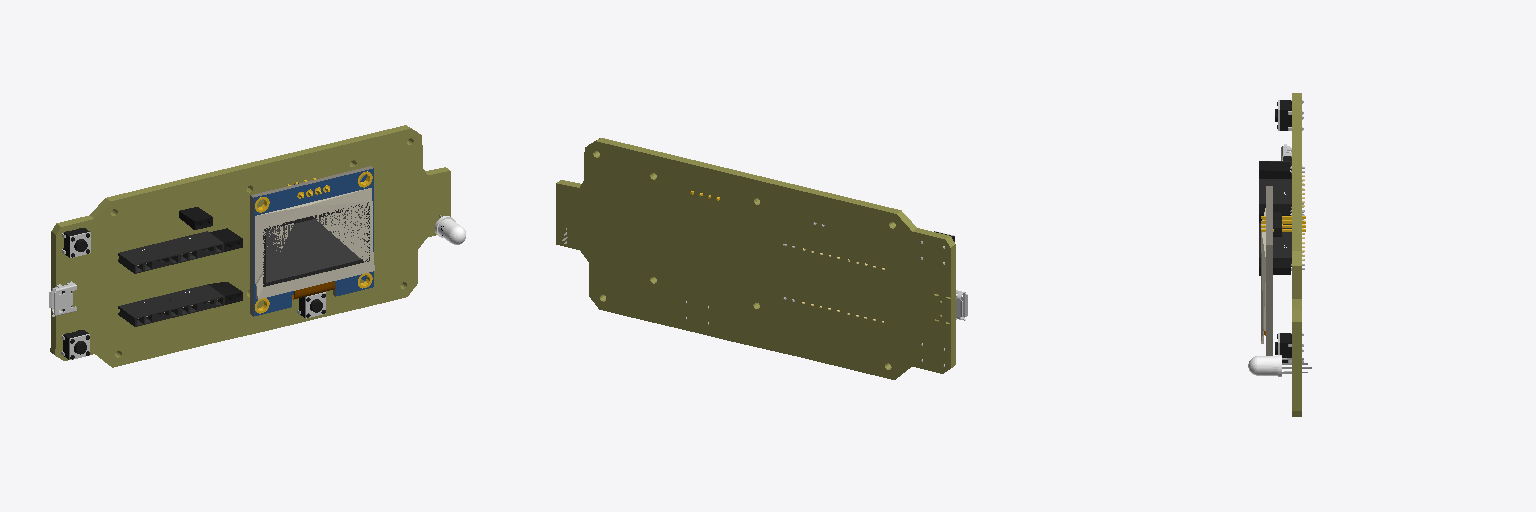
File: OBJ_PCB_Color.obj
The picture shows the model from 3 angles: view 1: azimuth 30°, elevation 25°; view 2: azimuth 150°, elevation 25°; view 3: azimuth 270°, elevation 25°; orthographic projection.
Size of the model in its own units: 466 by 186 by 63.78.